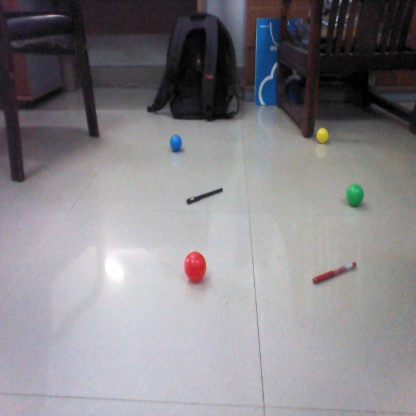ball: (180, 248, 210, 284), (343, 183, 365, 204), (167, 134, 185, 152), (315, 124, 329, 141)
pen: (314, 261, 356, 283), (184, 186, 228, 206)
